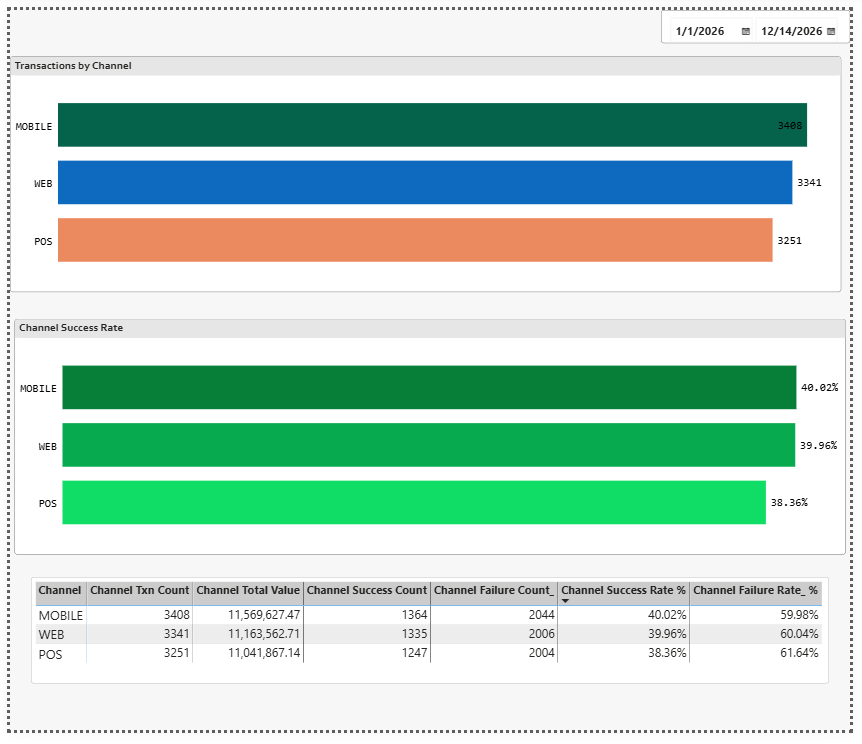

The dashboard page shown, as its layout file describes it:
{"tool":"powerbi","page":{"name":"Channel Performance","canvas":[1400,1200],"ordinal":1},"visuals":[{"type":"clusteredBarChart","title":"Transactions by Channel","fields":{"Category":["gold fact_channel_daily.channel"],"Y":["Sum(gold fact_channel_daily.txn_cnt)"]},"box":[0,77.5,1385,392.5],"z":0},{"type":"clusteredBarChart","title":"Channel Success Rate","fields":{"Category":["gold fact_channel_daily.channel"],"Y":["Date.Channel Success Rate %"]},"box":[7.5,515,1385,392.5],"z":1000},{"type":"slicer","fields":{"Values":["Date.Date"]},"box":[1085,0,315,55],"z":2000},{"type":"pivotTable","fields":{"Rows":["gold fact_channel_daily.channel"],"Values":["gold fact_channel_daily.Channel Txn Count","gold fact_channel_daily.Channel Total Value","gold fact_channel_daily.Channel Success Count","gold fact_channel_daily.Channel Failure Count_","Date.Channel Success Rate %","gold fact_channel_daily.Channel Failure Rate_ %"]},"box":[35,945,1330,177.5],"z":3000}]}

Visuals, with their boxes in screenshot pixels (x1, y1, x2, y2), scaled from the page's 1400x1200 canvas onto the 862x744 screenshot:
"Transactions by Channel" clusteredBarChart: 0 48 853 291
"Channel Success Rate" clusteredBarChart: 5 319 857 563
slicer - Date.Date: 668 0 861 34
pivotTable - gold fact_channel_daily.channel x gold fact_channel_daily.Channel Txn Count: 22 586 840 696
